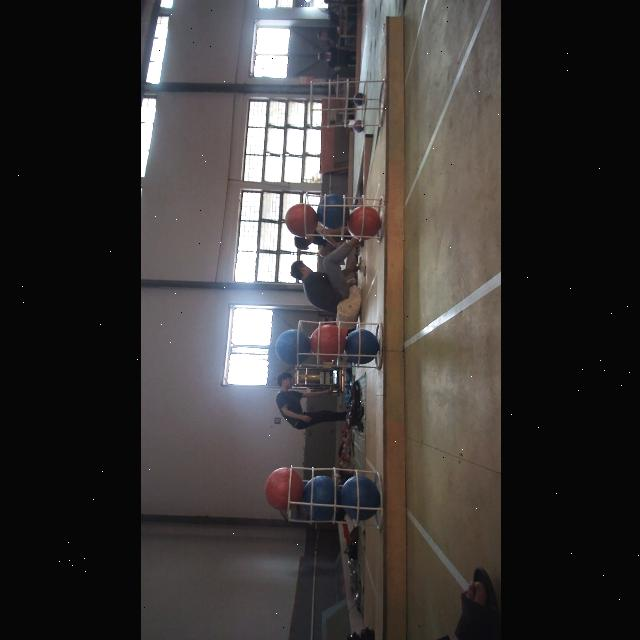B: (339, 474, 378, 522), (302, 475, 340, 521), (344, 328, 378, 364), (275, 329, 309, 365), (316, 194, 348, 230)
R: (264, 468, 302, 510), (310, 324, 344, 362), (348, 206, 380, 240), (284, 204, 316, 238)
